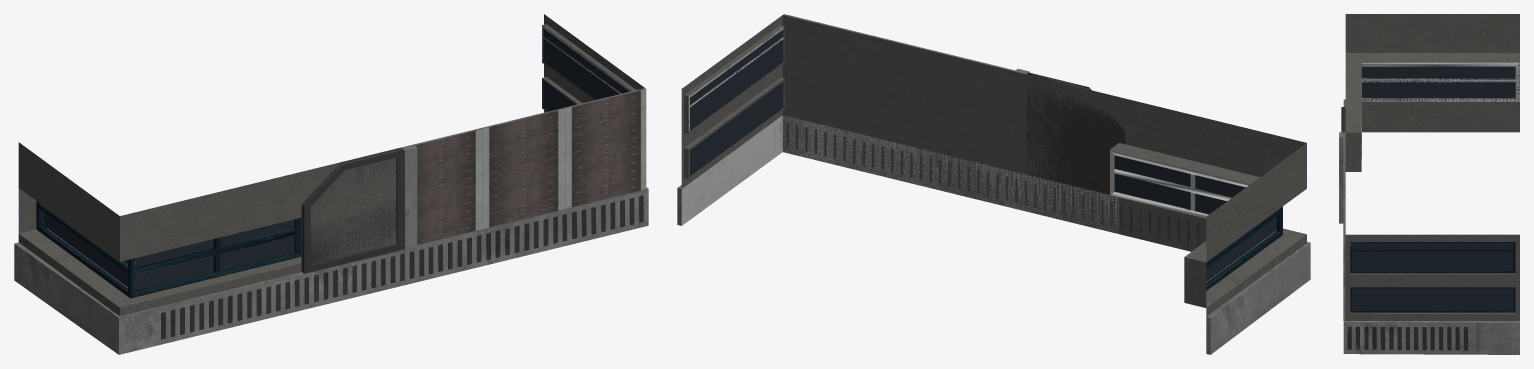
Rendered from sm_cb01_module01.glb.
3 views of the same model, side by side, from view 1: azimuth 30°, elevation 25°; view 2: azimuth 150°, elevation 25°; view 3: azimuth 270°, elevation 25° (orthographic). The views are drawn at different scales.
Parts seen in each view (by area): view 1: sm_cb01_module01_00; view 2: sm_cb01_module01_00; view 3: sm_cb01_module01_00.
Boxes of the visible parts, <box> form: sm_cb01_module01_00: <box>14,14,648,354</box>; sm_cb01_module01_00: <box>677,14,1310,354</box>; sm_cb01_module01_00: <box>1339,14,1519,354</box>.
Size of the model in its own units: 12.2 by 3 by 4.15.
3 materials, 2 textured.
